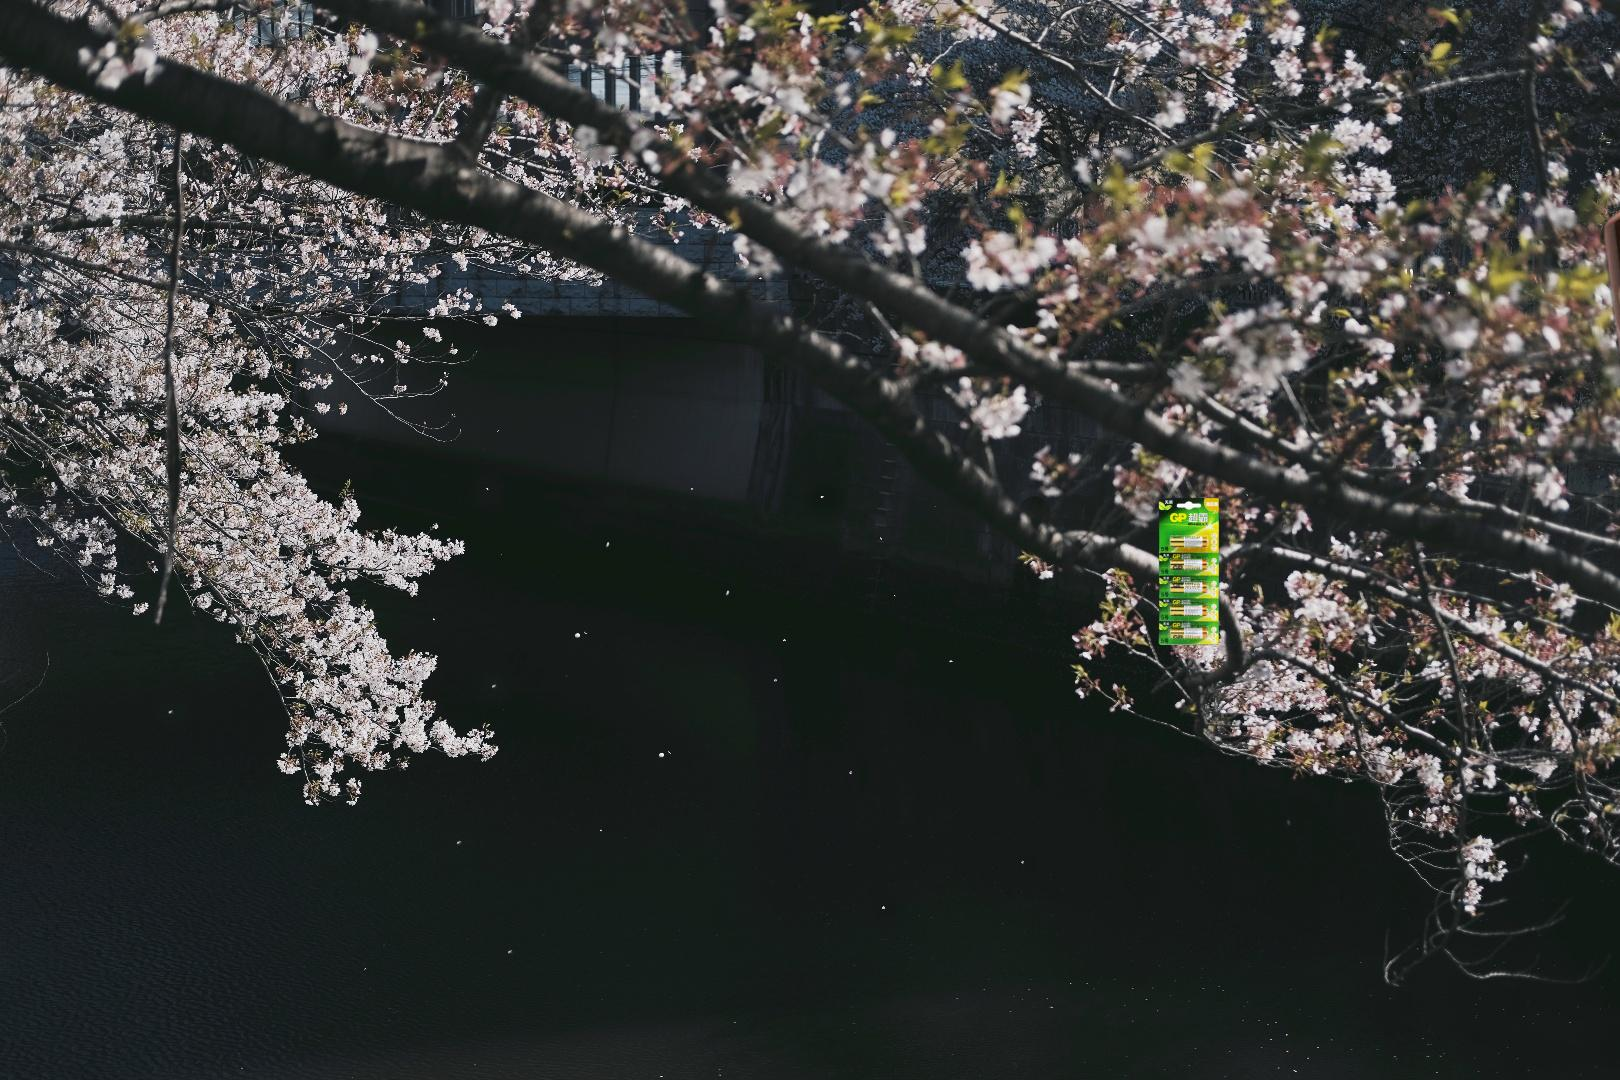battery: (1100, 488, 1222, 648)
metal-cans: (1598, 178, 1620, 465)
